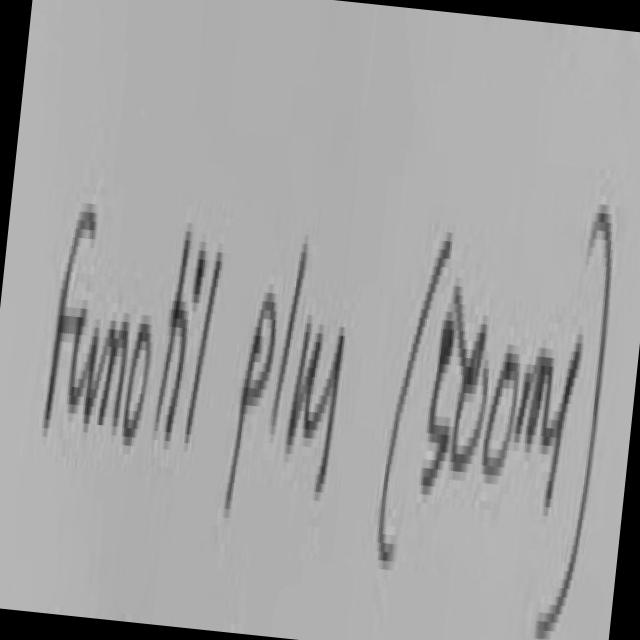0: (451, 328, 491, 478), (485, 353, 518, 474)
5: (423, 307, 466, 490)
F: (47, 211, 95, 424)
g: (546, 334, 583, 503)
i: (162, 340, 186, 447), (193, 250, 206, 298)
l: (184, 252, 221, 463), (275, 240, 307, 421)
m: (513, 343, 553, 466)
n: (96, 309, 131, 444)
o: (123, 324, 148, 441)
p: (224, 293, 277, 524)
s: (315, 327, 345, 488)
t: (153, 223, 192, 436)
u: (287, 309, 323, 450), (69, 313, 96, 419)
